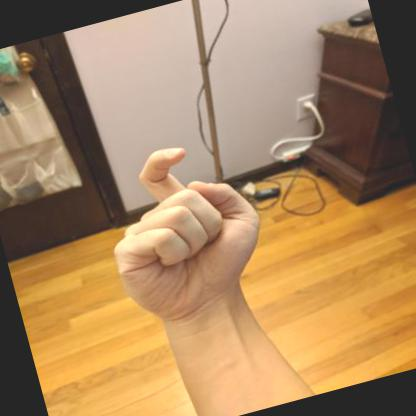X: (113, 147, 260, 327)
